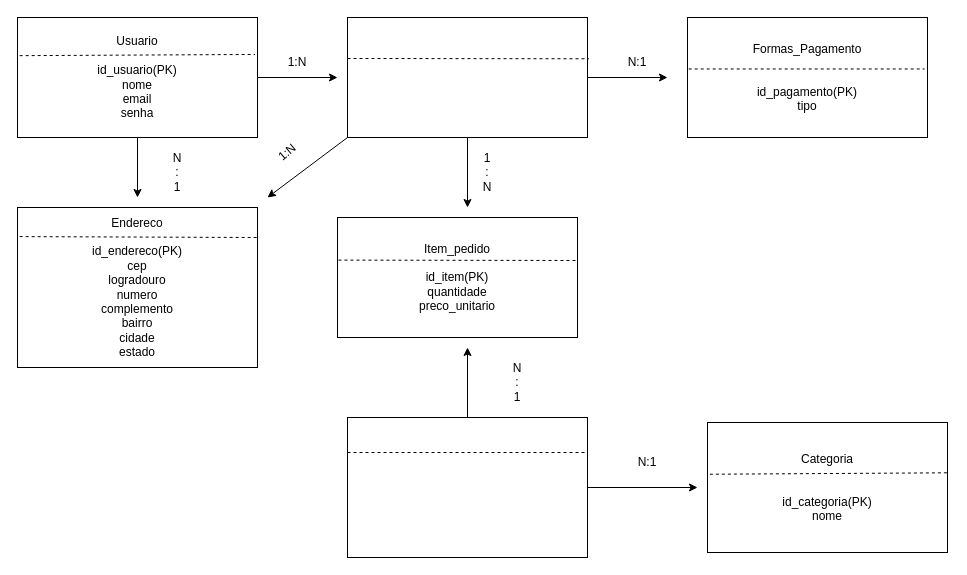
Some shapes in this 967 by 575 pixel diagram are drawn without their labels. Here are the shapes that lost their labels. From the top down, the box of each, then its label:
(346, 16, 588, 138): Pedido id_pedido(PK) data_pedido valor_total status
(346, 416, 588, 558): Produto id_produto(PK) nome preco estoque descricao
